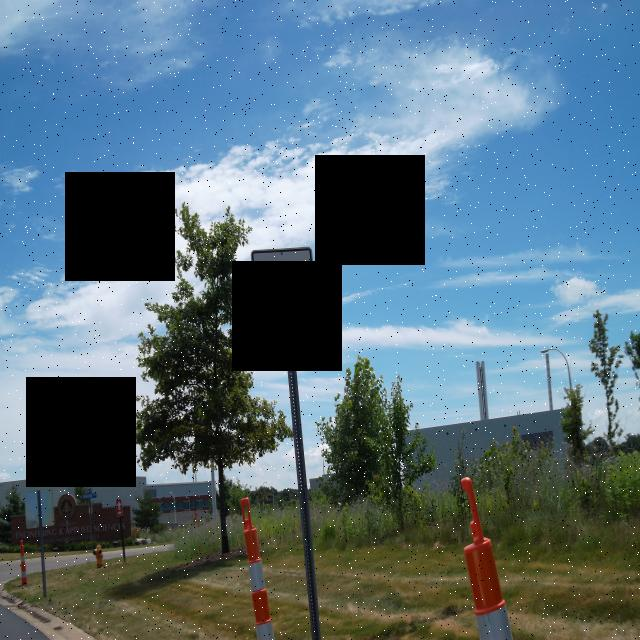regulatory: (247, 241, 323, 359)
